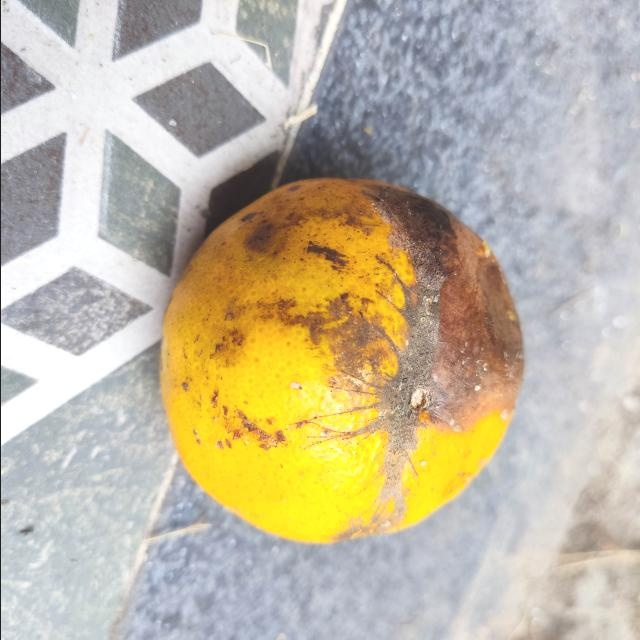agrume: (160, 173, 528, 547)
